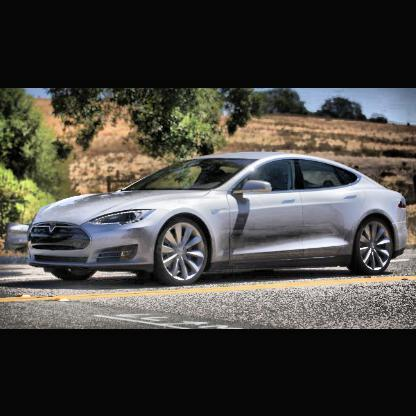Tesla Model S Sedan 2012: (30, 152, 408, 287)
